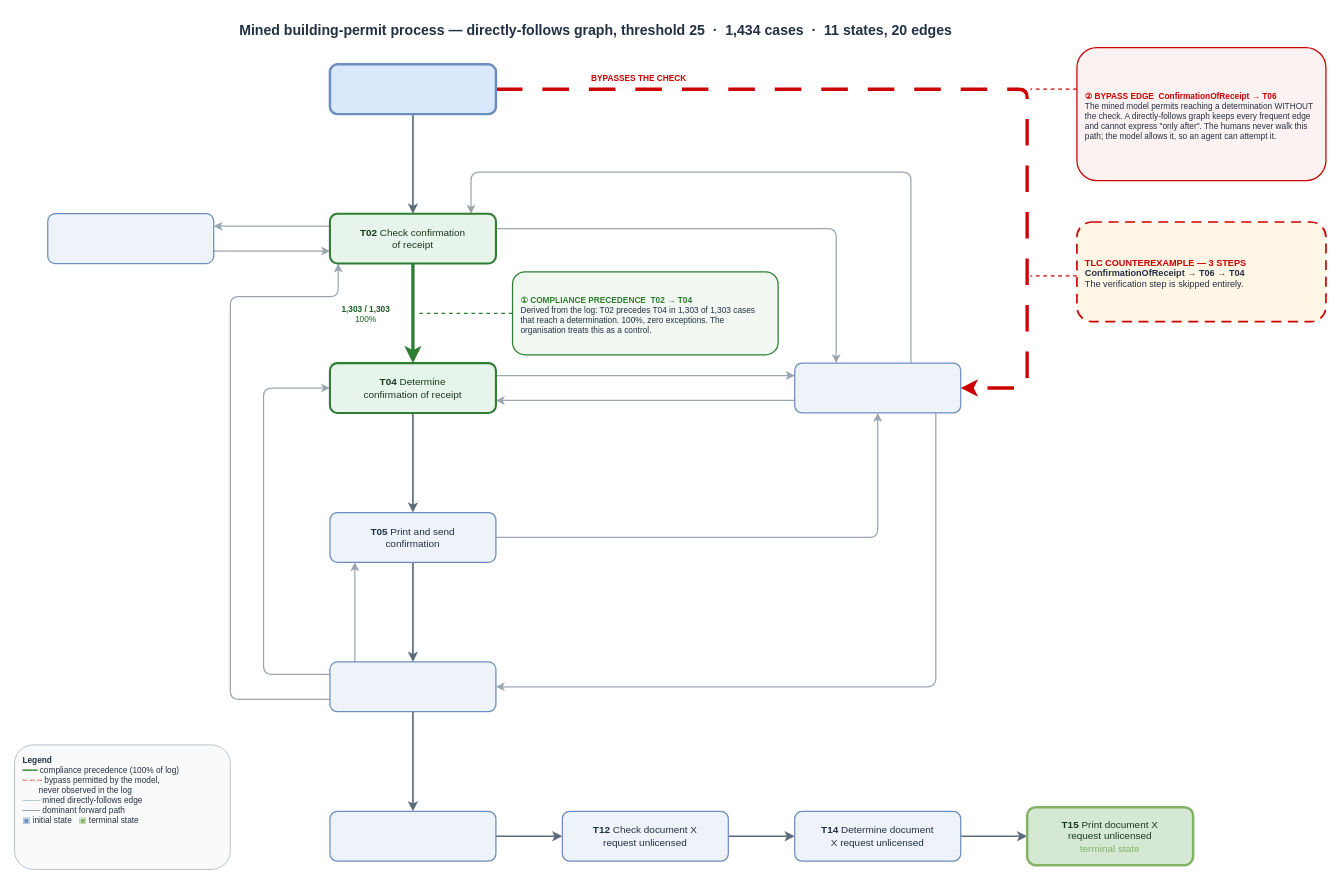
The diagram is 1341 pixels wide and 884 high, and some of its shapes have lost their labels. The shapes that lost their labels are listed below. From the top down, each one's centre as x and y in pixels, then its label:
At (412,89): "ConfirmationOfReceipt initial state".
At (130,238): "T03 Adjust confirmation of receipt".
At (877,387): "T06 Determine necessity of stop advice".
At (412,686): "T10 Determine necessity to stop indication".
At (412,835): "T11 Create document X request unlicensed".
